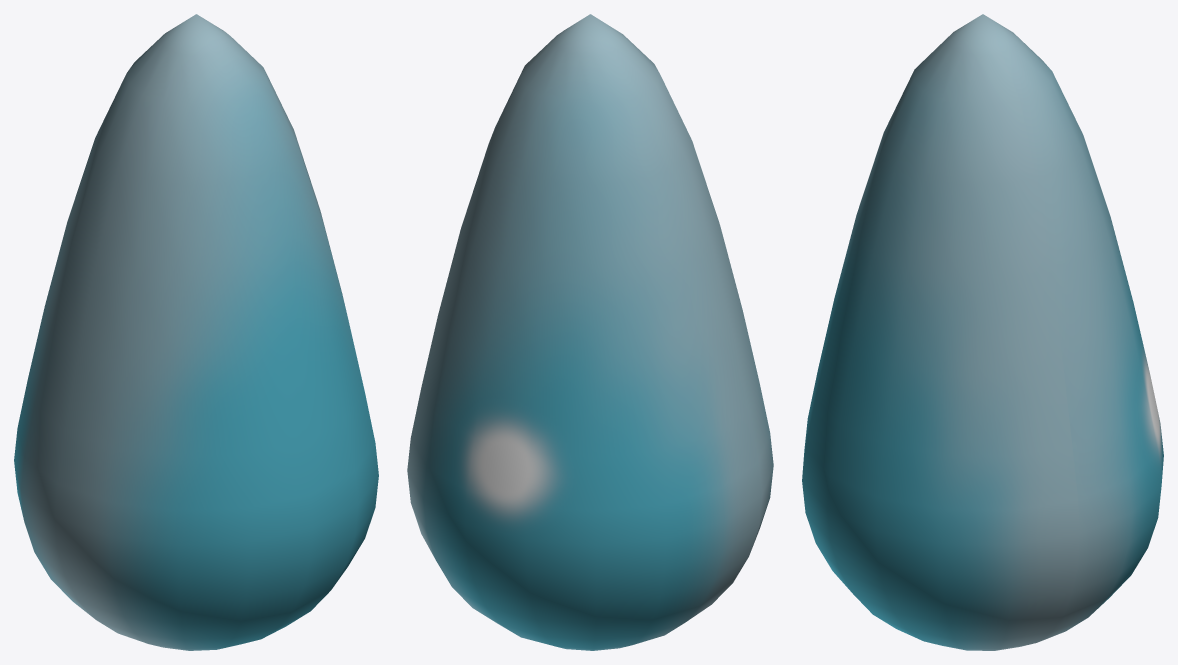
Rendered from Kropla.fbx.
3 views of the same model, side by side, from view 1: azimuth 30°, elevation 25°; view 2: azimuth 150°, elevation 25°; view 3: azimuth 270°, elevation 25° (orthographic).
Visible parts, largest first — view 1: Kropla; view 2: Kropla; view 3: Kropla.
Boxes of the visible parts, x1,y1,x2,y2 form: Kropla: [14, 14, 378, 650]; Kropla: [407, 14, 773, 650]; Kropla: [802, 14, 1163, 650].
Size of the model in its own units: 0.3679 by 0.6959 by 0.3679.
